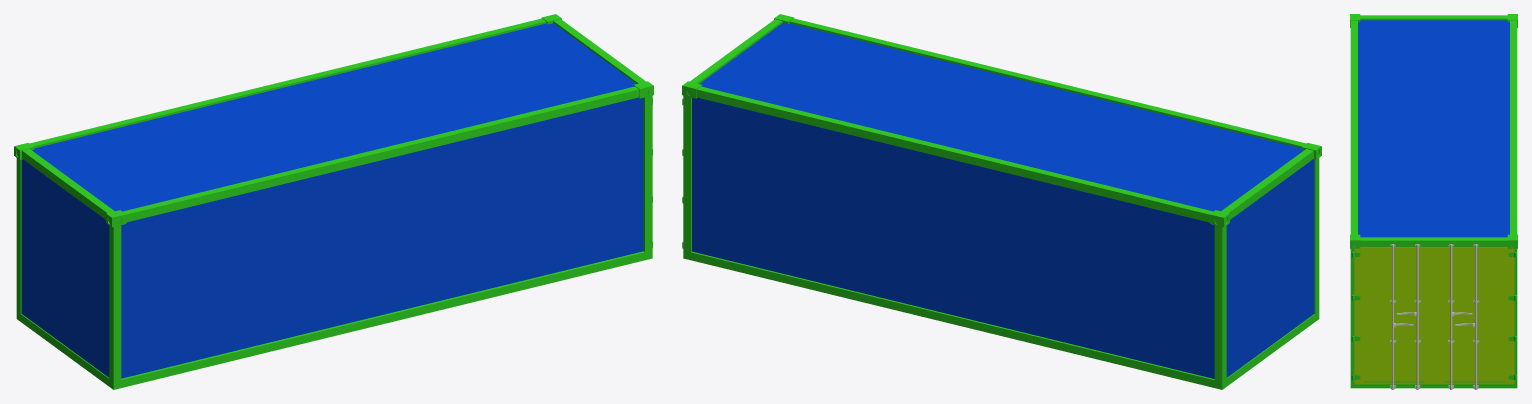
The model's file is CargoContainer.fbx.
3 views of the same model, side by side, from view 1: azimuth 30°, elevation 25°; view 2: azimuth 150°, elevation 25°; view 3: azimuth 270°, elevation 25° (orthographic). The views are drawn at different scales.
Parts seen in each view (by area): view 1: Body; view 2: Body; view 3: Body, Handles.
Part boxes in pixels (x1,y1,x2,y2): Body: (14,14,653,389); Body: (682,14,1321,389); Body: (1350,14,1517,388); Handles: (1390,244,1479,389).
Size of the model in its own units: 214 by 65.38 by 66.74.
